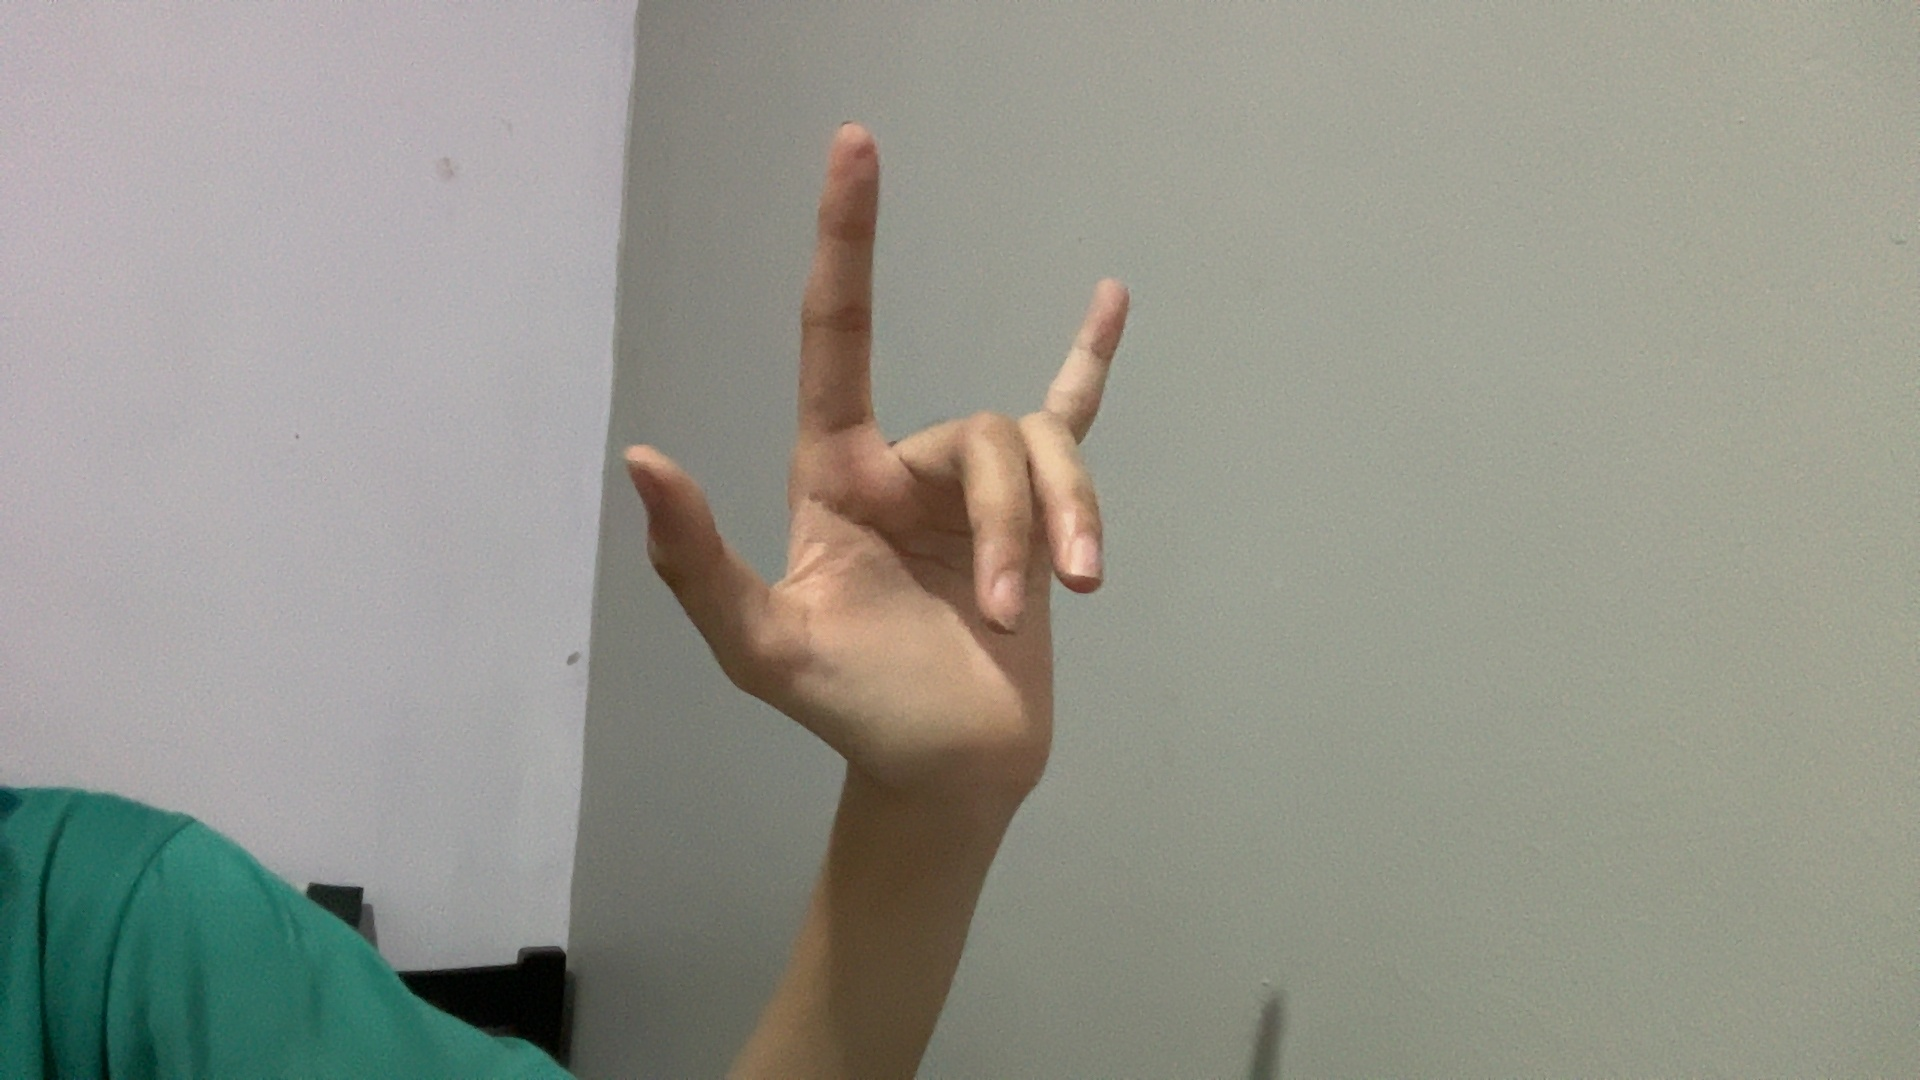I Love You: (440, 74, 1364, 897)
